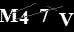4: (18, 10, 29, 25)
7: (38, 8, 50, 23)
M: (1, 8, 18, 22)
V: (58, 12, 74, 26)
